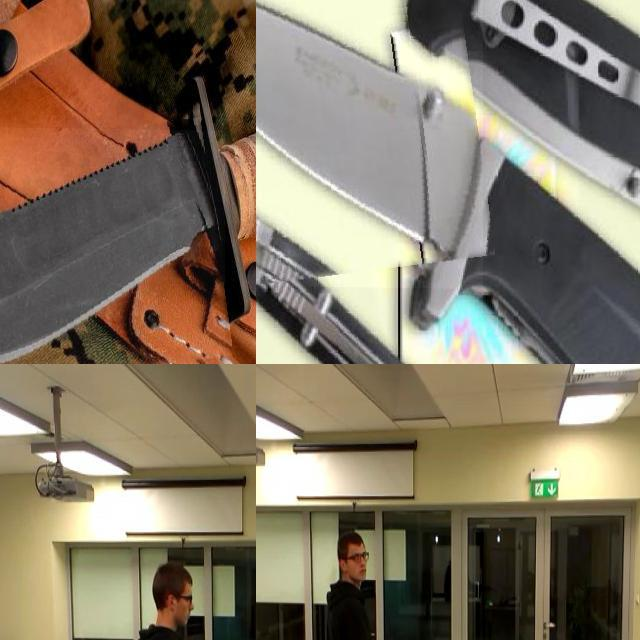-: (256, 0, 483, 288), (0, 124, 225, 364)
